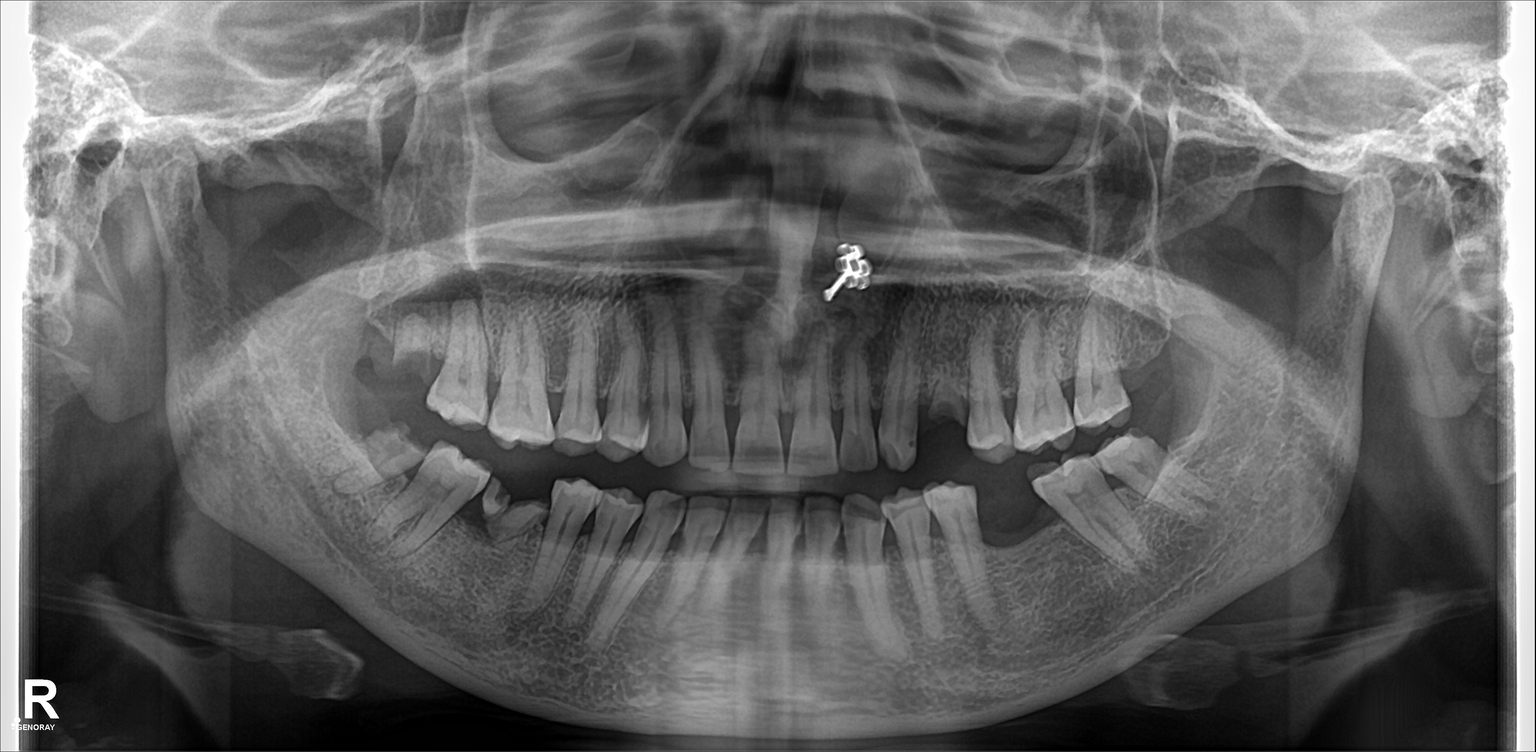Impacted Third Molar: (1099, 443, 1205, 503), (330, 434, 422, 487)
Missing Tooth: (981, 477, 1037, 572)
Retained Root: (490, 463, 545, 584), (927, 326, 965, 448), (393, 309, 429, 401)
Tooth Fracture: (1123, 305, 1165, 408)
